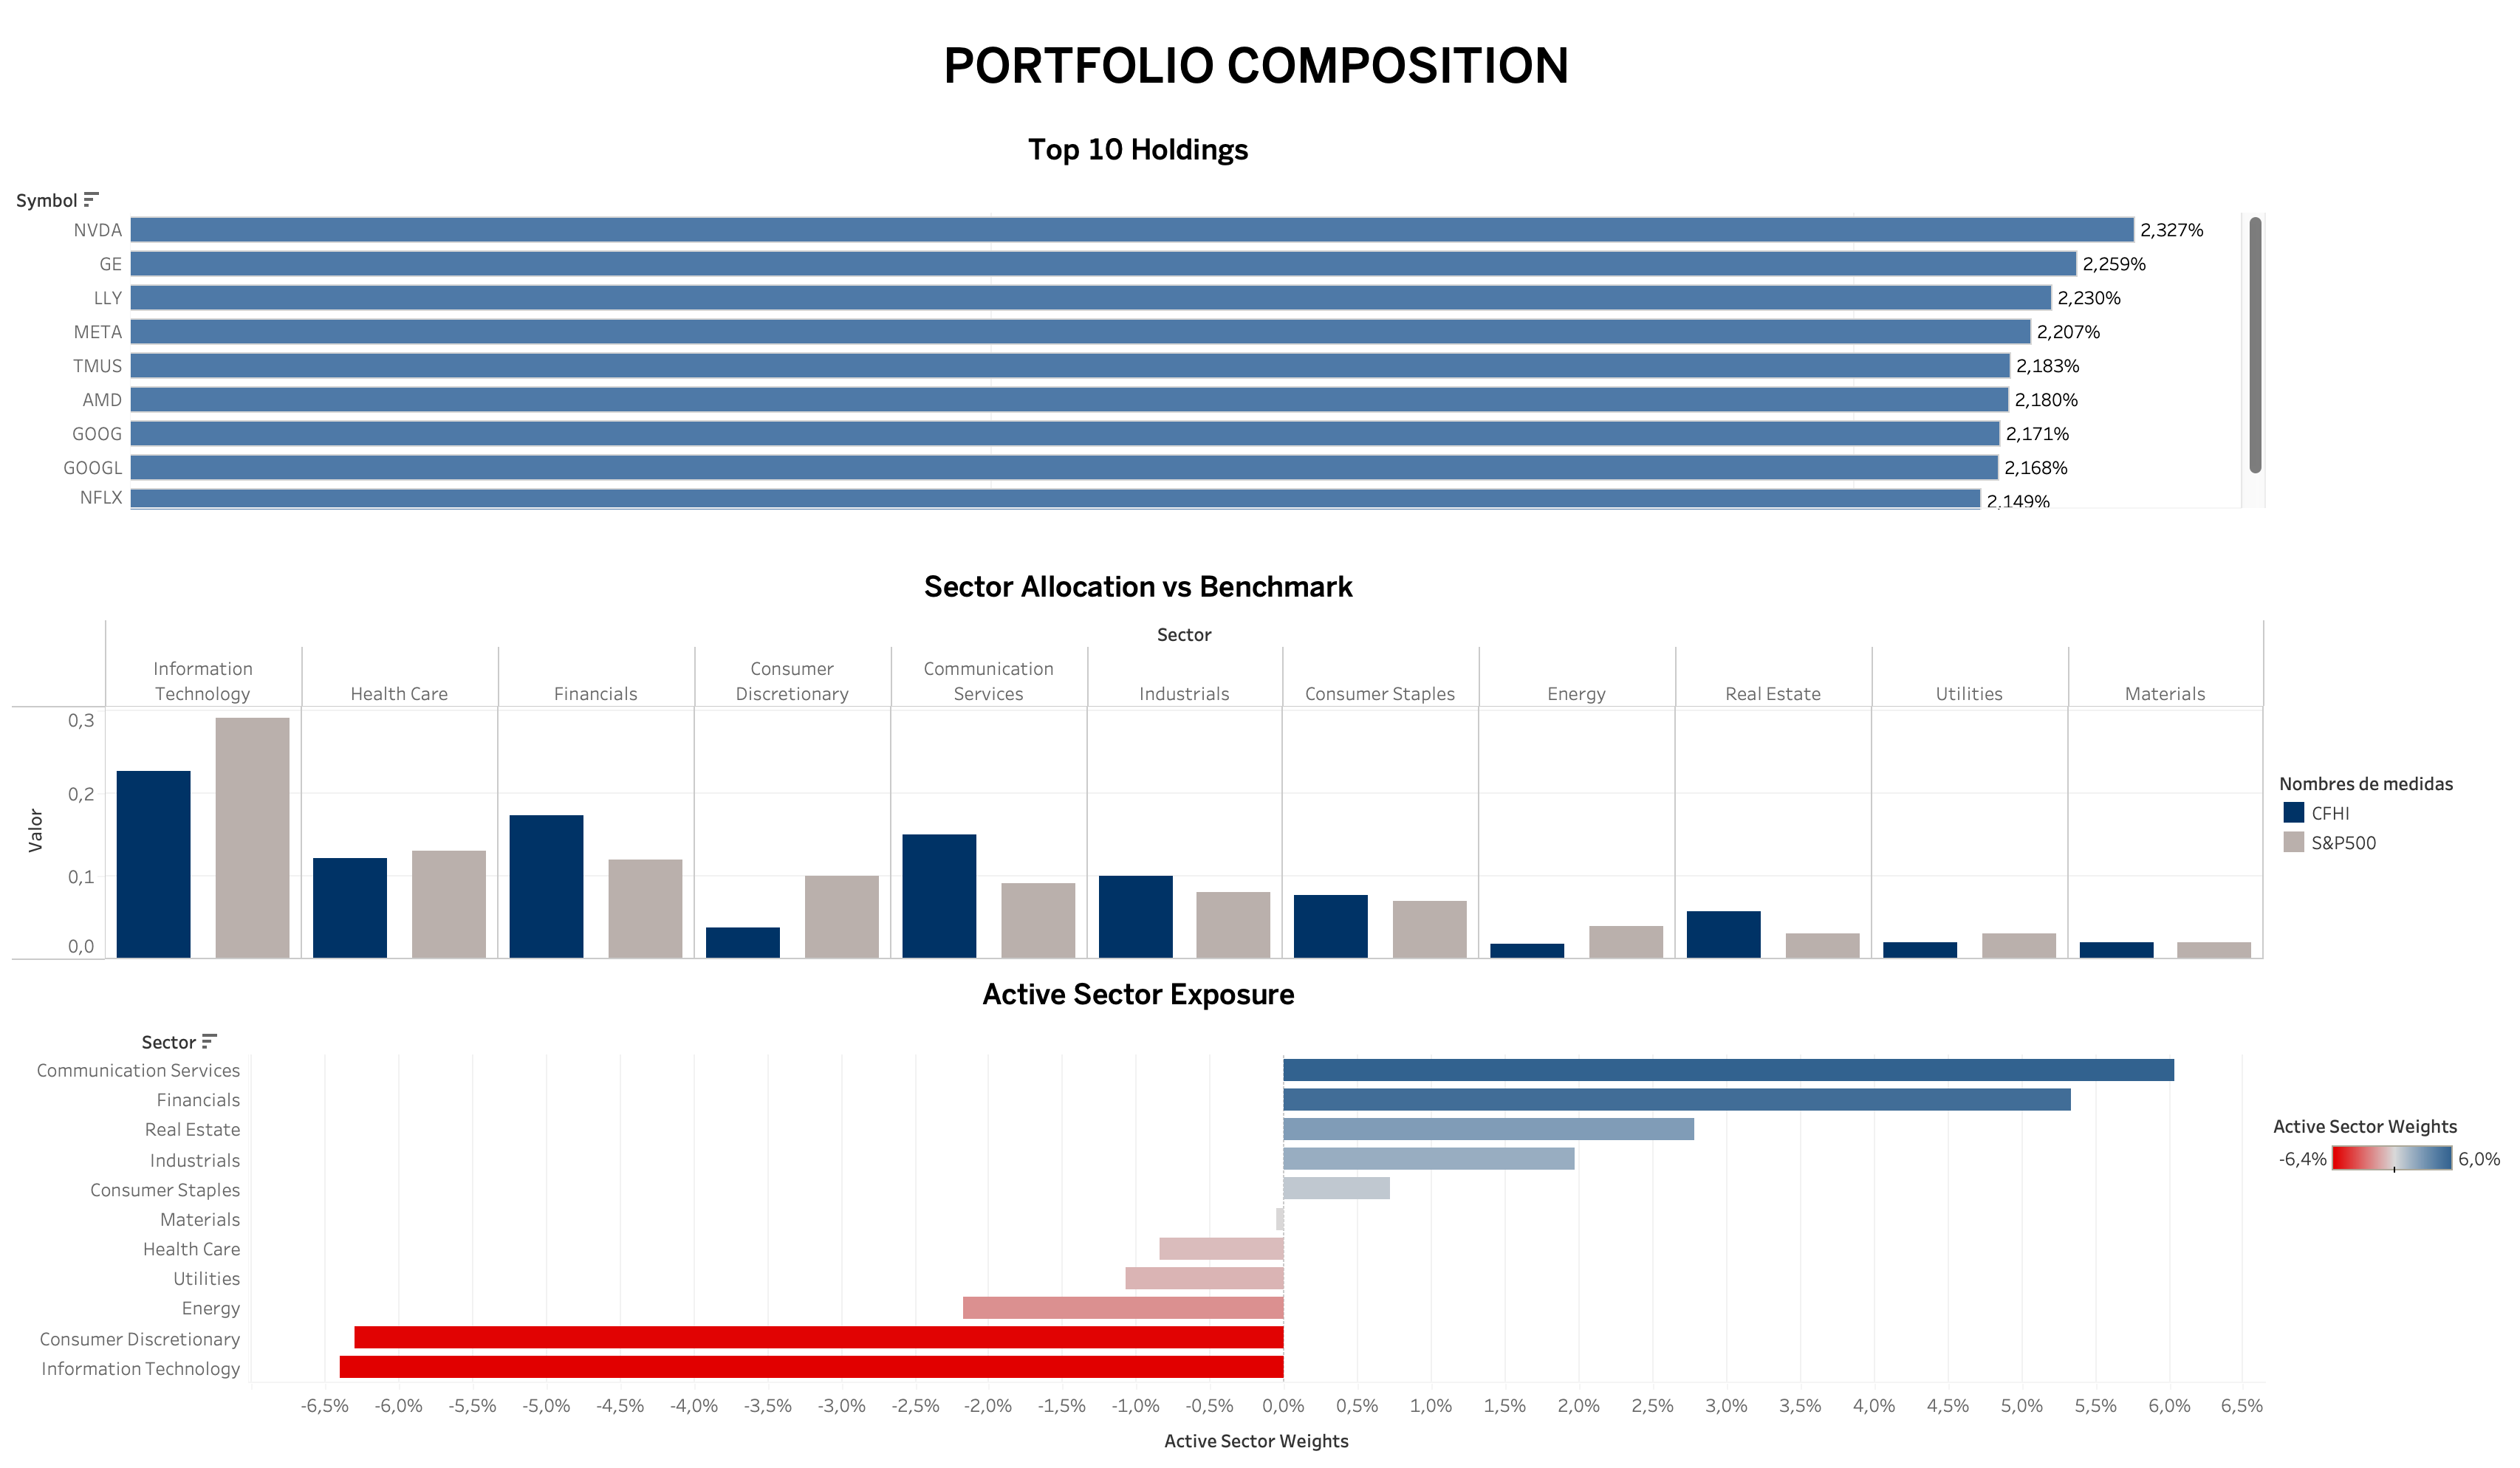

What the dashboard file says about the page in this screenshot:
{"tool":"tableau","page":{"name":"Dashboard 2","canvas":[1000,1000],"units":"permille","ordinal":1},"visuals":[{"type":"text","box":[4.7,8,990.6,73.4]},{"type":"worksheet","title":"Top Holdings by Portfolio Weight","mark":"Bar","rows":["symbol"],"cols":["weight"],"box":[4.7,81.4,897.1,295.2]},{"type":"worksheet","title":"CFHI vs S&P 500","mark":"Automatic","cols":["sector"],"box":[4.7,376.6,897.1,275.2]},{"type":"legend","title":"CFHI vs S&P 500","param":"[federated.1q1ftva05gwayt0zmfwyg0m5bqhx].[:Measure Names]","box":[904.7,520.3,93.3,63.5]},{"type":"worksheet","title":"Active Sector Weights","mark":"Automatic","rows":["sector"],"cols":["Calculation_1053721559982083"],"box":[4.7,651.8,897.1,340.2]},{"type":"legend","title":"Active Sector Weights","param":"[federated.1q1ftva05gwayt0zmfwyg0m5bqhx].[usr:Calculation_1053721559982083:qk]","box":[902.1,751.4,93.3,83.2]}]}

Visuals, with their boxes on the dashboard's canvas, which has no fixed pixel size, in thousandths of its width and height (x1, y1, x2, y2). These are canvas units, not pixel positions in the 2520x1468 screenshot, which may show the page scaled, cropped or inside an application window:
text: bbox(5, 8, 995, 81)
"Top Holdings by Portfolio Weight" worksheet (Bar marks): bbox(5, 81, 902, 377)
"CFHI vs S&P 500" worksheet: bbox(5, 377, 902, 652)
"CFHI vs S&P 500" legend: bbox(905, 520, 998, 584)
"Active Sector Weights" worksheet: bbox(5, 652, 902, 992)
"Active Sector Weights" legend: bbox(902, 751, 995, 835)
